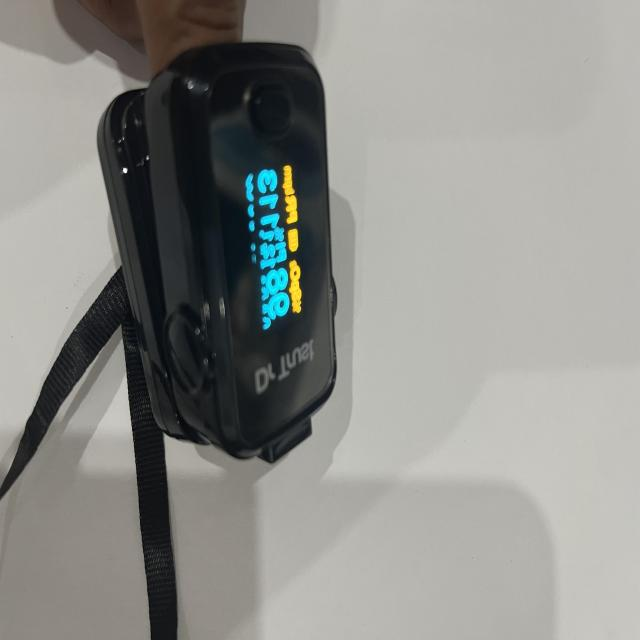spo2: (96, 42, 338, 465)
